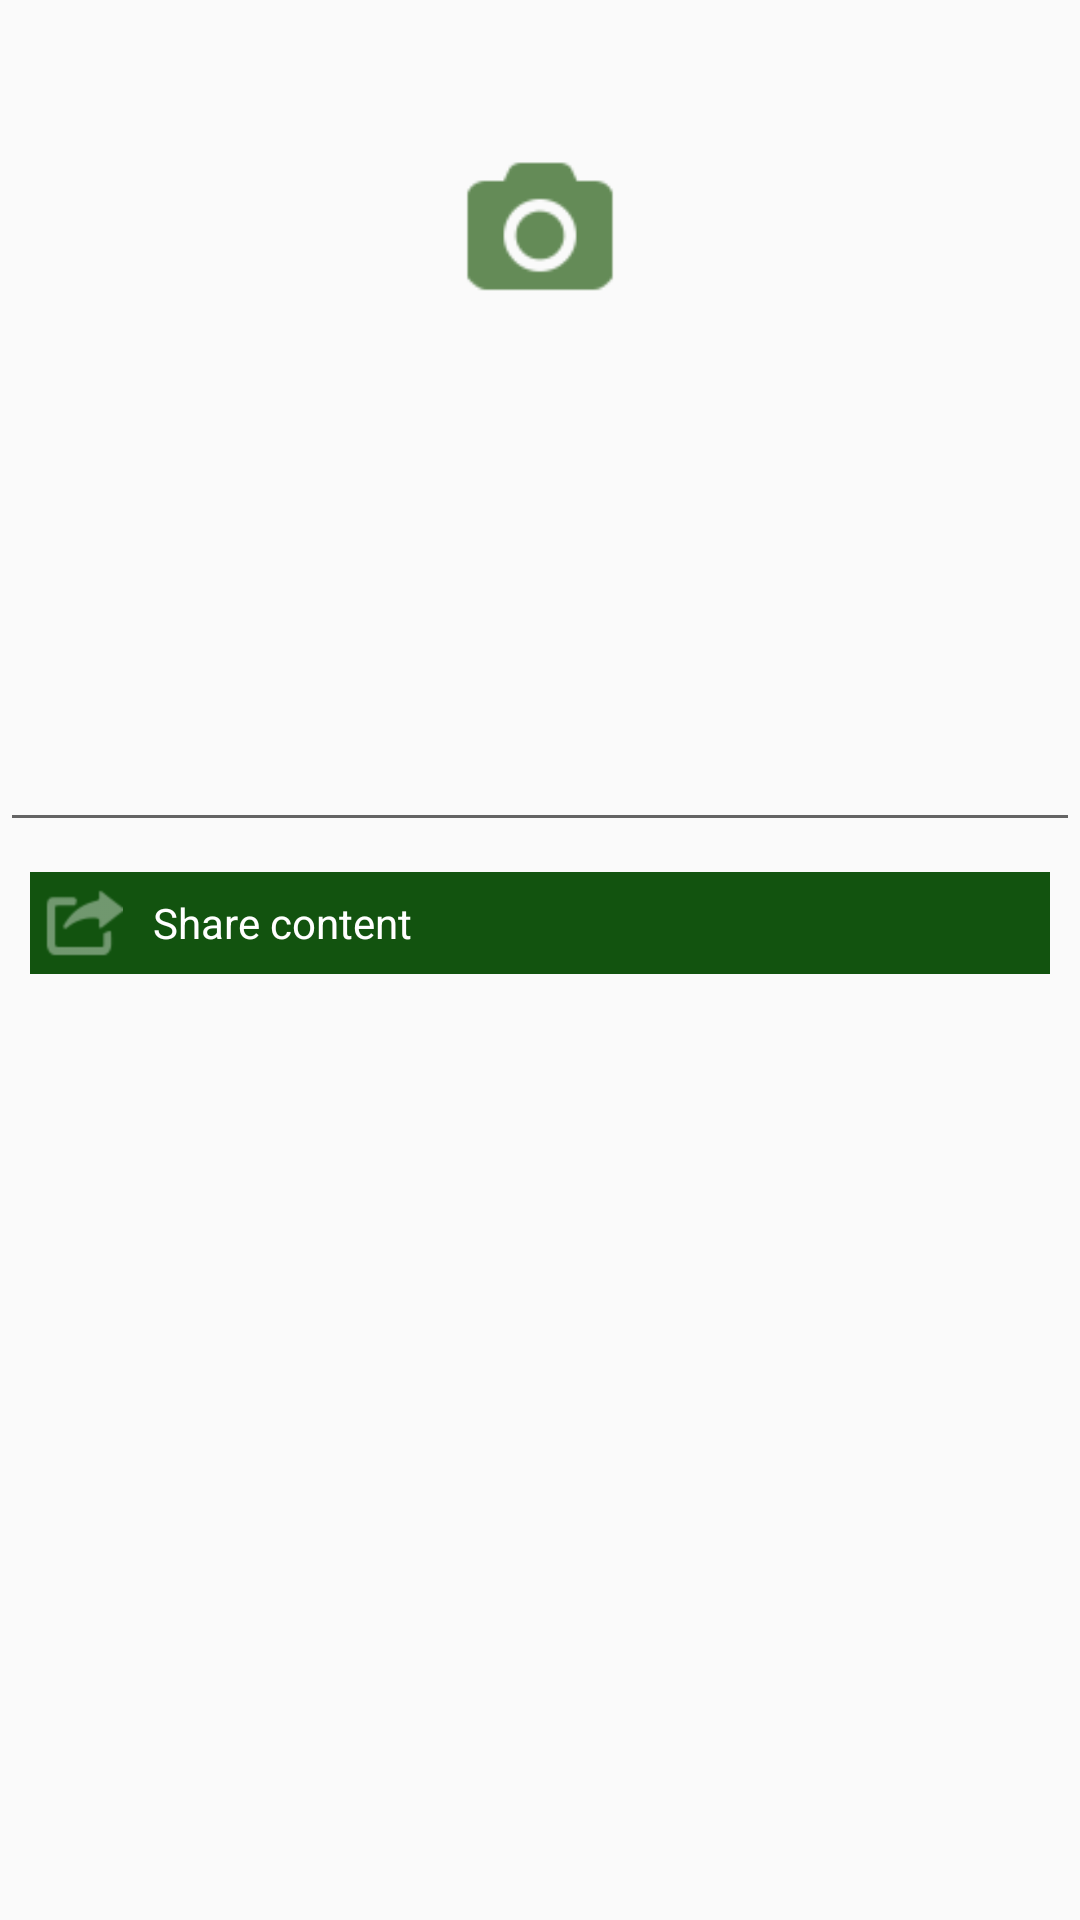

Screen size 1080w x 1920h. Icon name, then its center in pixels as (x,y):
ikona fotoaparat: (540,226)
